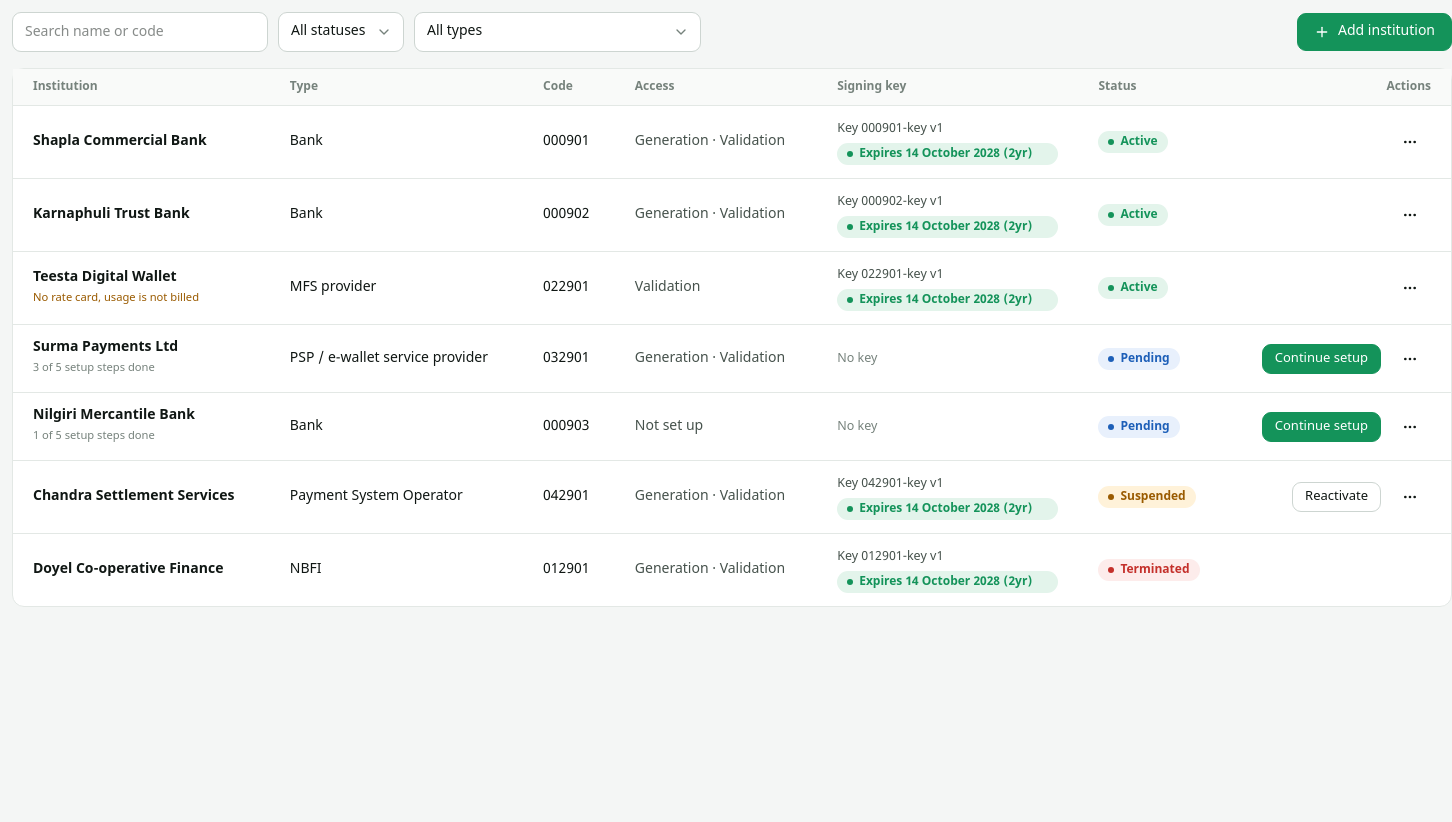
institutions list › filters by search and status
This screenshot has width=1452, height=822.
Expected: the link "Shapla Commercial Bank" is shown, x1=33 y1=132 x2=207 y2=151
In the field named "Search institutions": (140, 32) x1=12 y1=12 x2=268 y2=52, type "shapla"
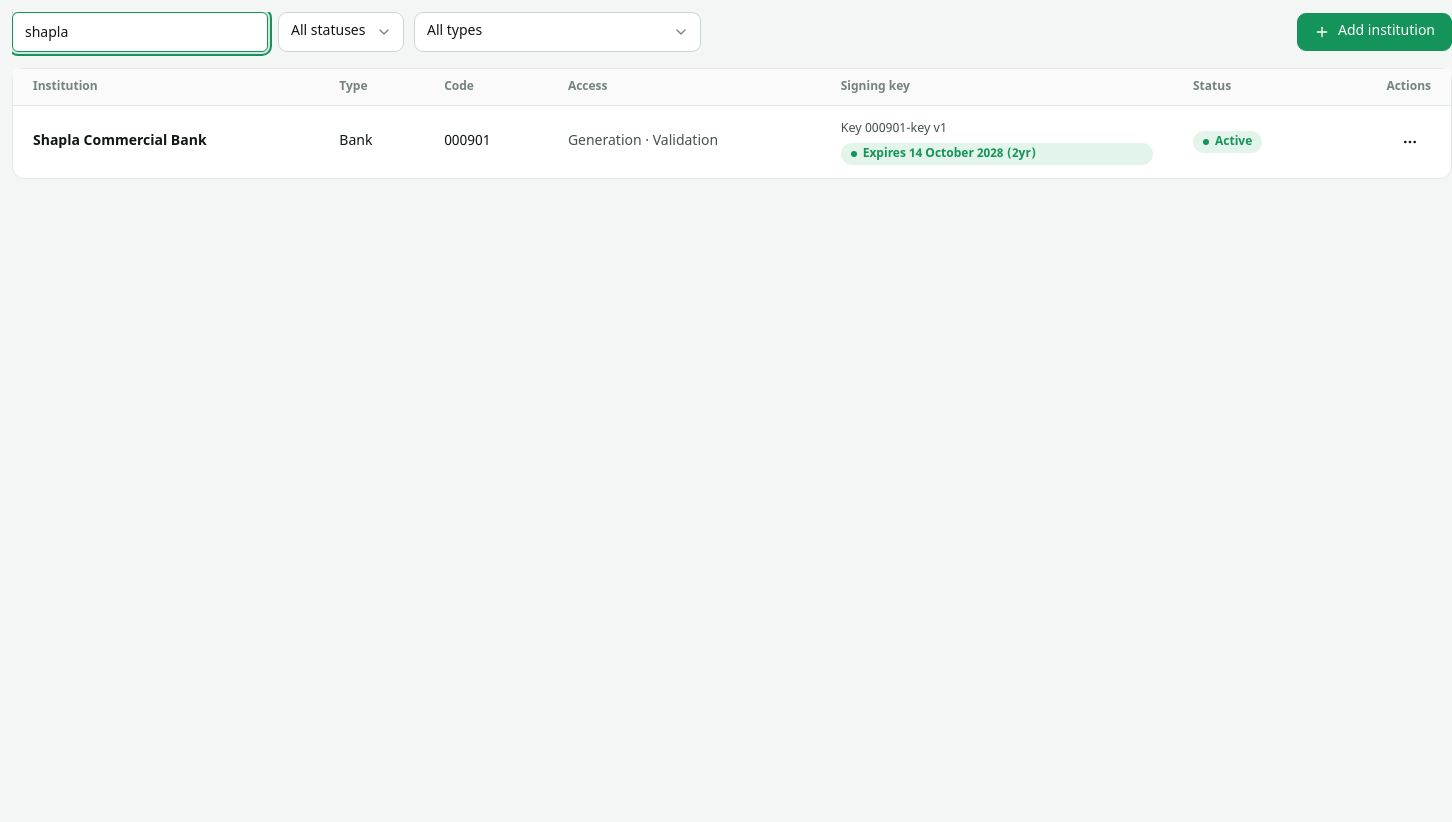
Expected: the number of rows is 2, x1=13 y1=69 x2=1451 y2=106; x1=13 y1=106 x2=1451 y2=178
Clear the field named "Search institutions": (140, 32) x1=12 y1=12 x2=268 y2=52
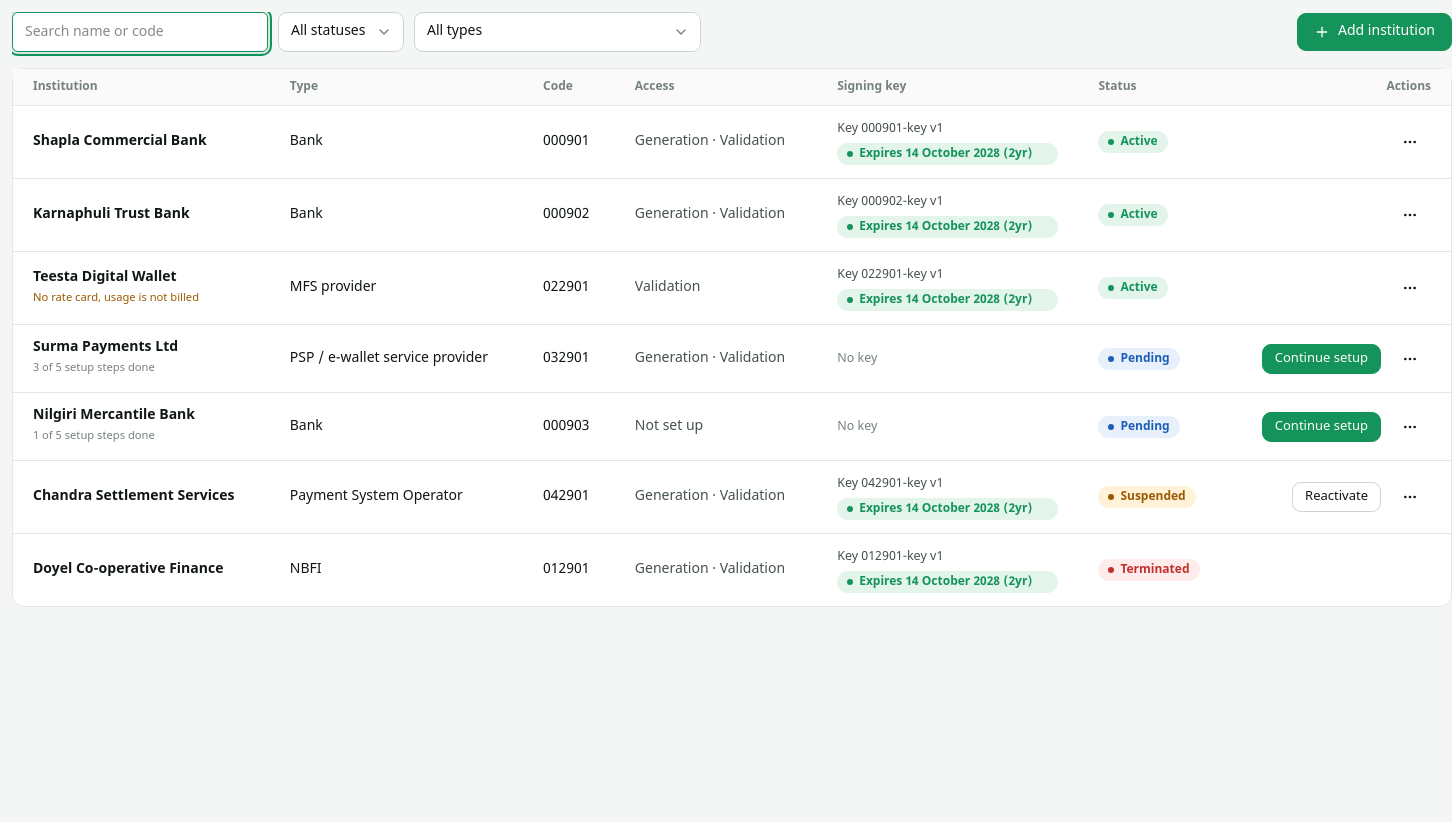
Select "Suspended" in the dropdown named "Status": (341, 32) x1=278 y1=12 x2=404 y2=52
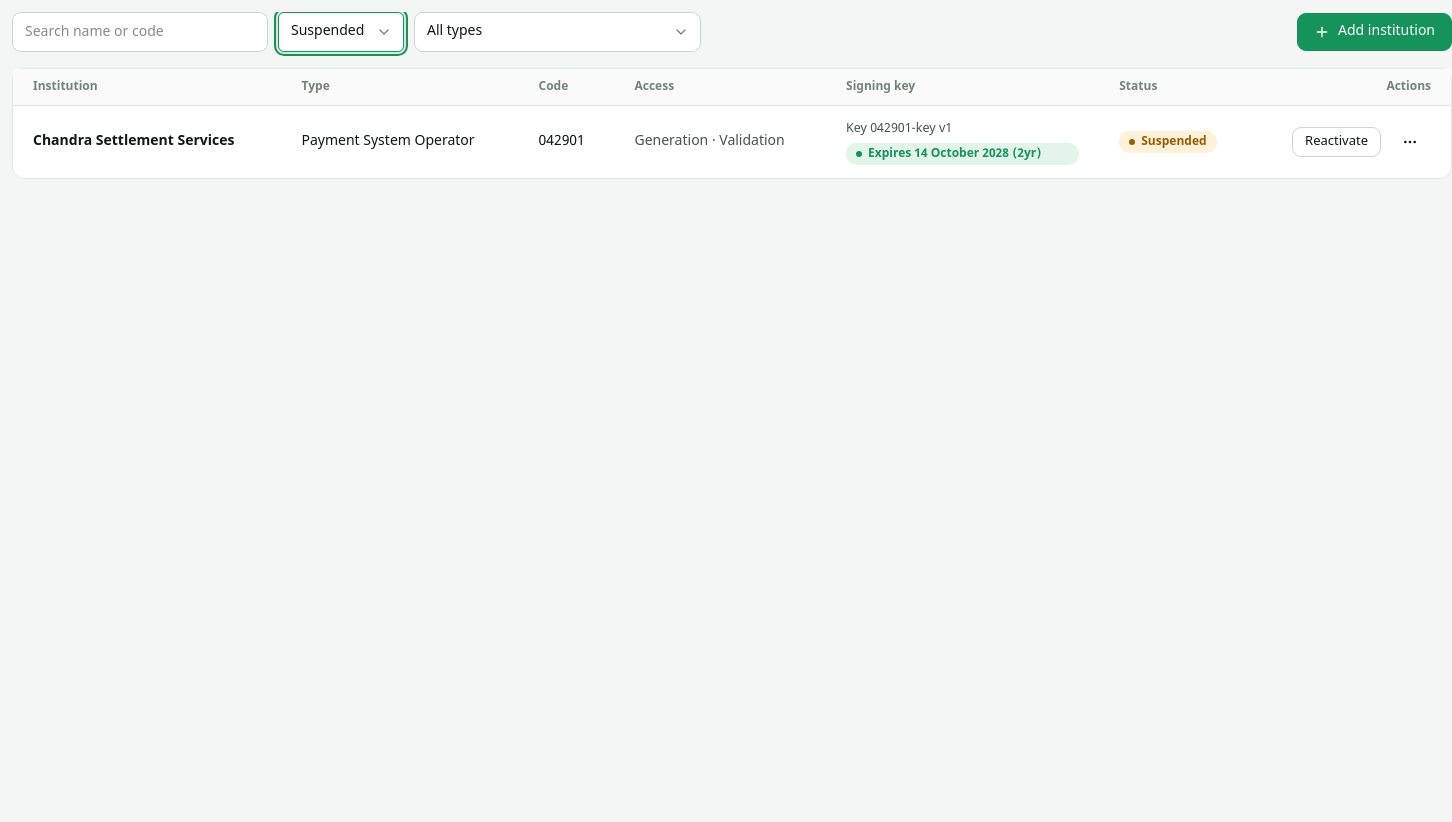
Now the link "Chandra Settlement Services" is shown, box x1=33 y1=132 x2=262 y2=152
Now the link "Shapla Commercial Bank" is gone
